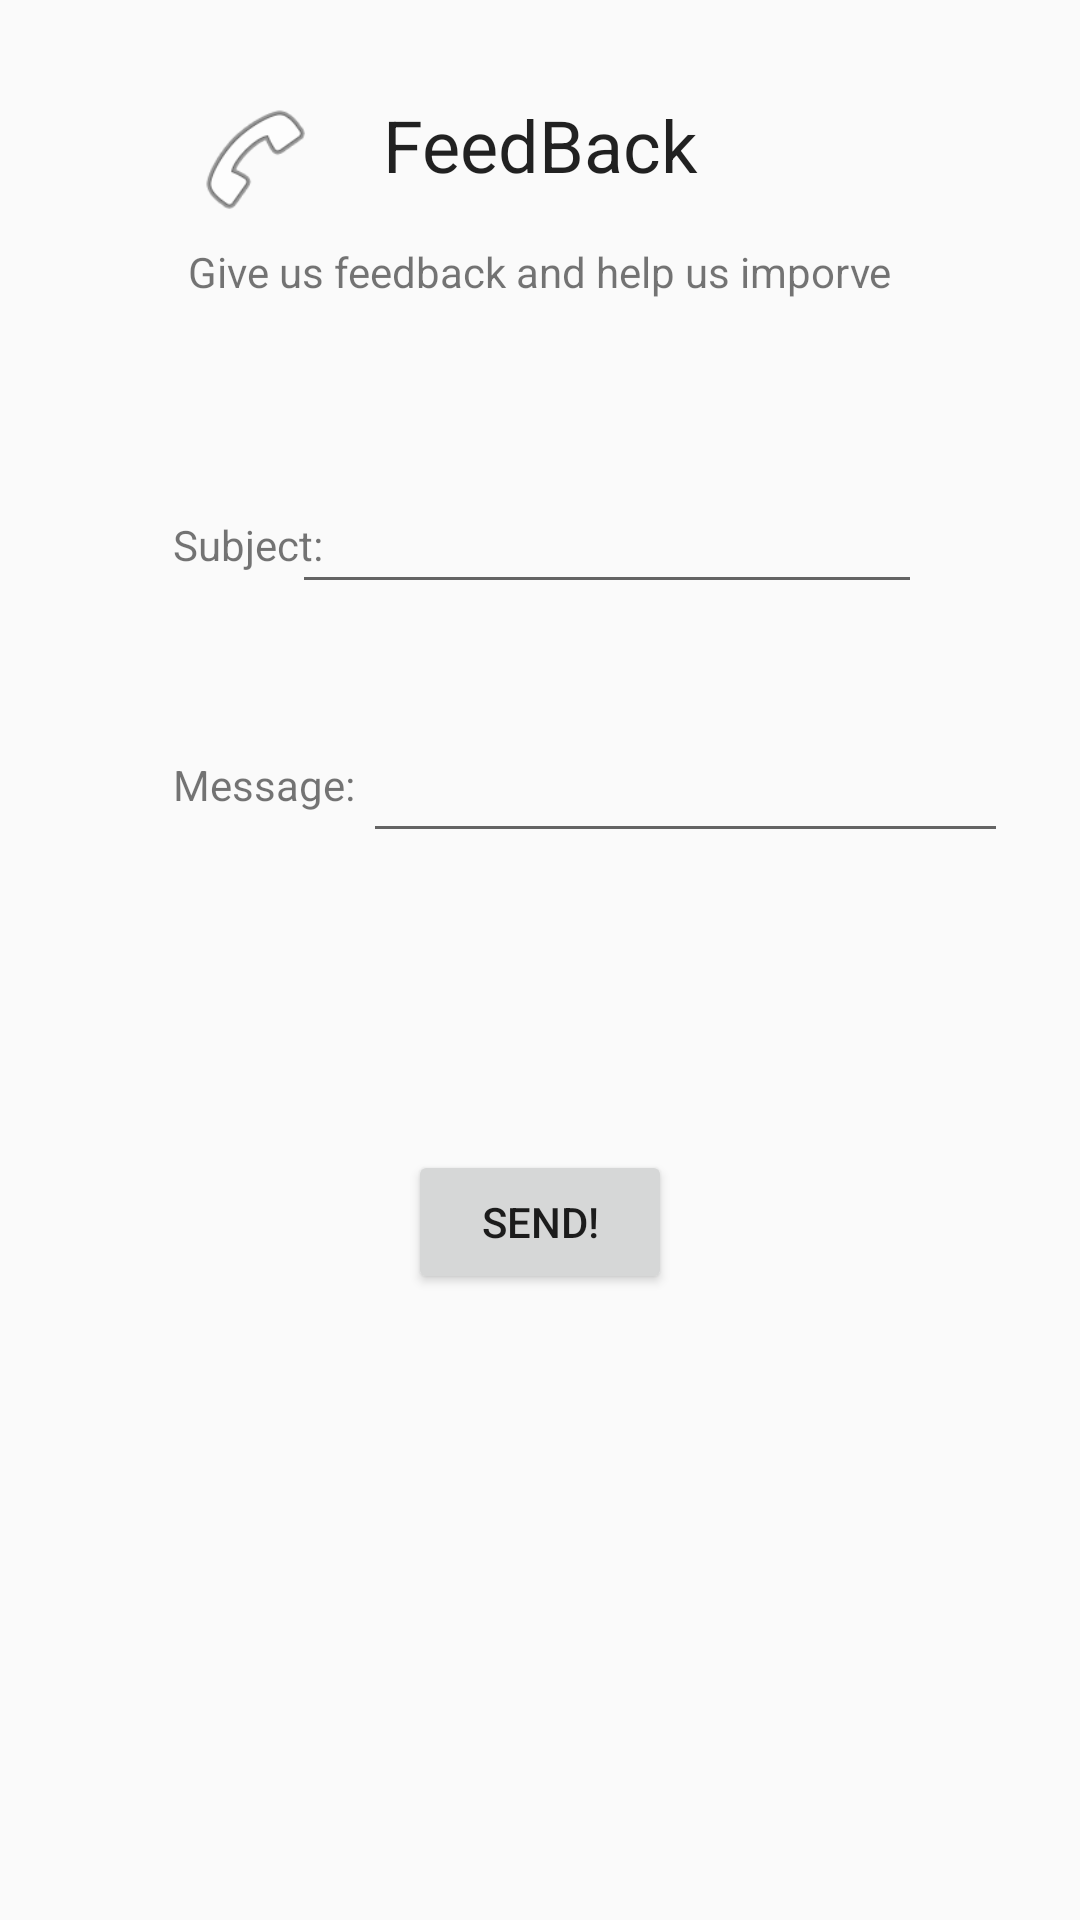

Named icons in this screenshot (1080px×1920px) and their bounding boxes, {"x1": x1, "y1": y1, "x2": x2, "y2": y2}:
call: {"x1": 206, "y1": 110, "x2": 305, "y2": 209}
